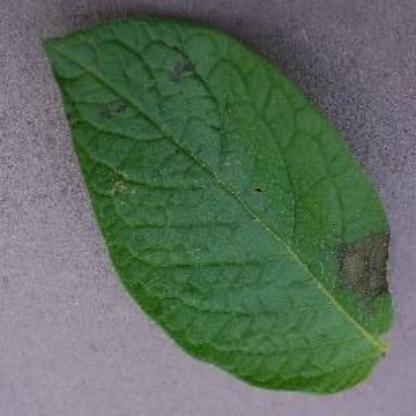Late-Blight: (21, 8, 402, 400)
